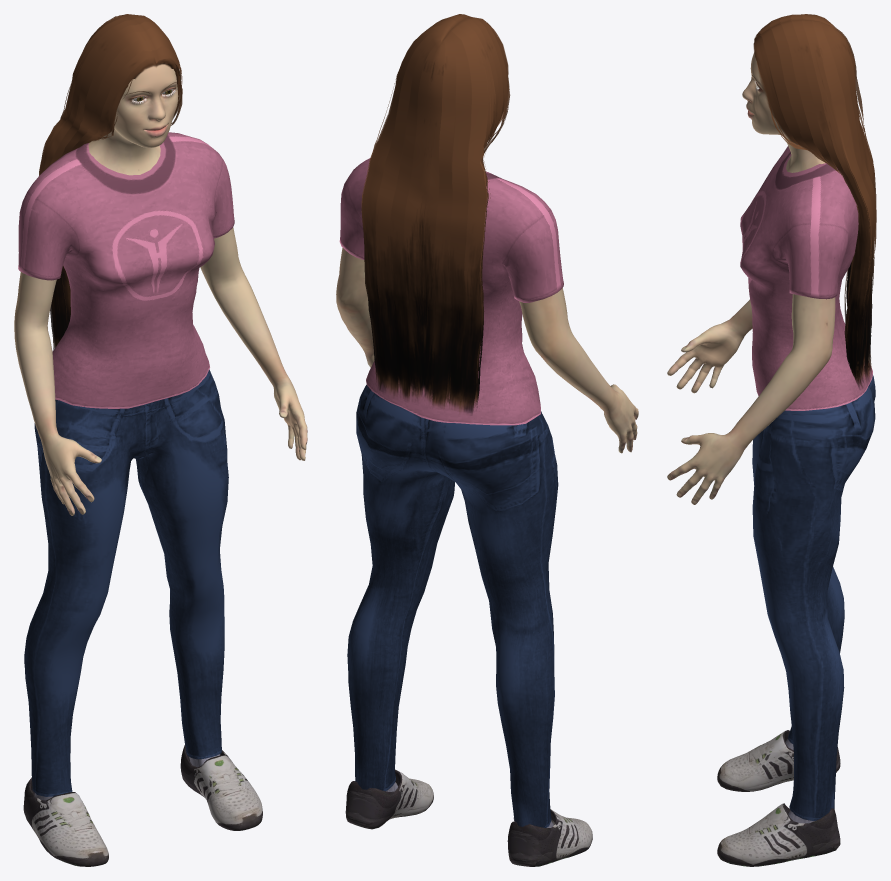
Rendered from female.glb.
3 views of the same model, side by side, from view 1: azimuth 30°, elevation 25°; view 2: azimuth 150°, elevation 25°; view 3: azimuth 270°, elevation 25° (orthographic). The views are drawn at different scales.
Visible parts, largest first — view 1: suit, body, hair, shoes; view 2: suit, hair, body, shoes; view 3: suit, hair, body, shoes.
Part boxes in pixels (x1,y1,x2,y2): suit: [18, 132, 234, 796]; body: [14, 64, 307, 515]; hair: [39, 14, 182, 350]; shoes: [23, 745, 262, 866]; suit: [339, 158, 563, 827]; hair: [361, 14, 510, 414]; body: [336, 247, 638, 453]; shoes: [345, 769, 592, 866]; suit: [740, 146, 875, 820]; hair: [753, 14, 876, 388]; body: [667, 52, 835, 504]; shoes: [717, 730, 840, 866].
Bounding box in the file's own units: 0.525 × 1.63 × 0.3841.
Materials: 8 (8 with a texture image).
